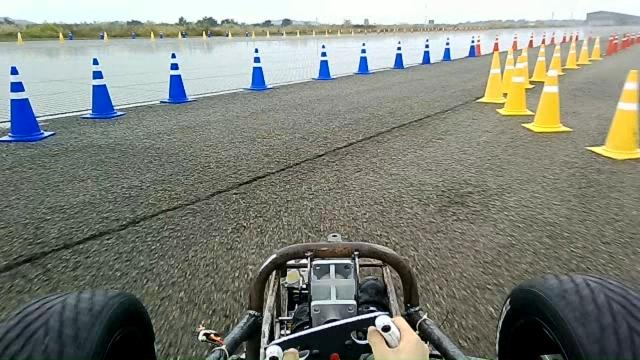blue cone: (0, 65, 56, 142), (79, 57, 127, 119), (159, 52, 197, 104), (242, 47, 273, 91), (312, 44, 336, 81), (353, 41, 374, 75), (391, 41, 406, 70), (420, 37, 433, 65), (440, 36, 453, 62)
yellow cone: (584, 69, 639, 160), (520, 62, 574, 133), (500, 53, 536, 117), (475, 50, 506, 104)
